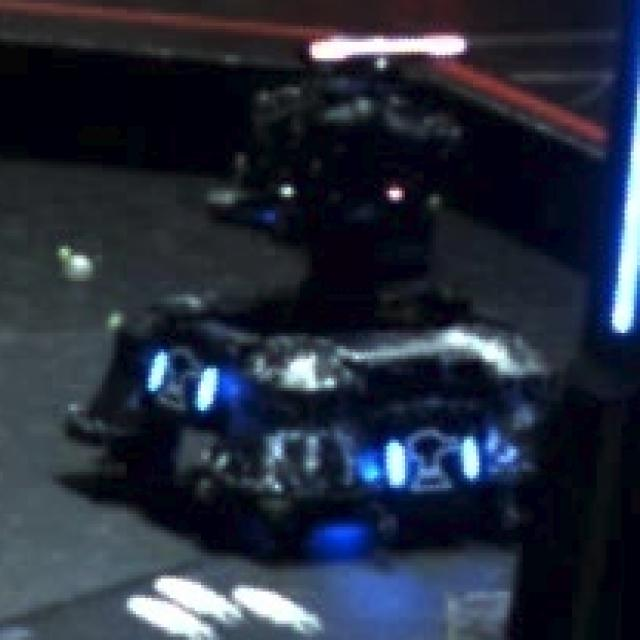Bs: (384, 430, 479, 494), (142, 349, 220, 420)
